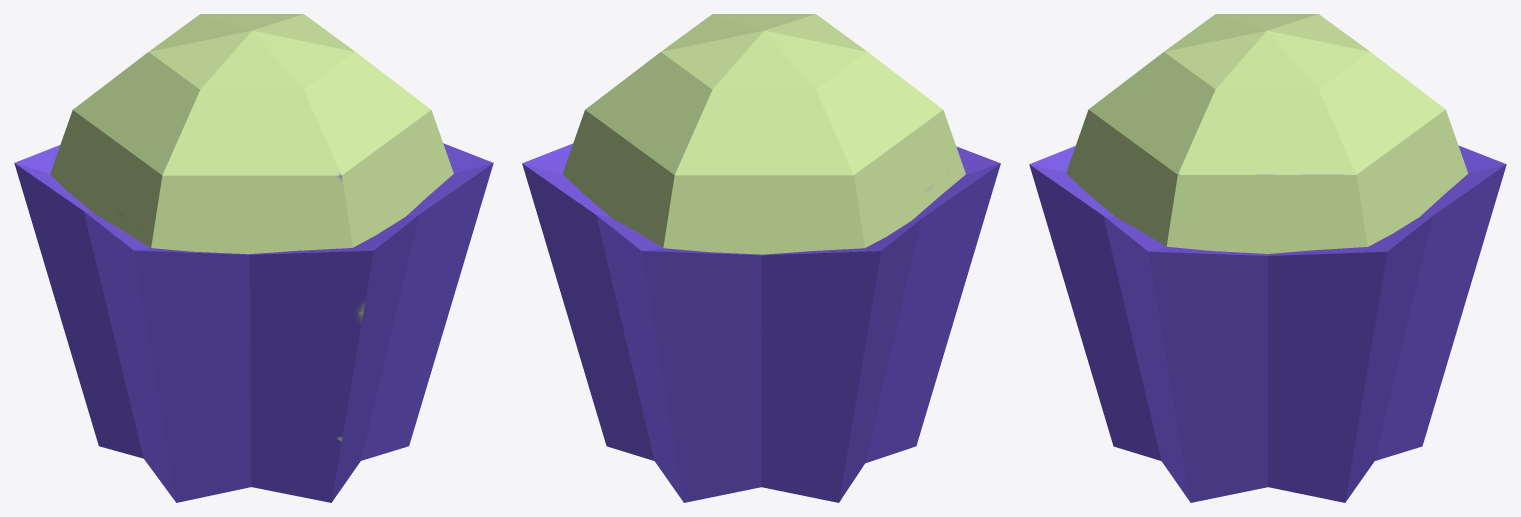
Rendered from Cupcake_2.fbx.
3 views of the same model, side by side, from view 1: azimuth 30°, elevation 25°; view 2: azimuth 150°, elevation 25°; view 3: azimuth 270°, elevation 25° (orthographic).
Visible parts, largest first — view 1: Cupcake two; view 2: Cupcake two; view 3: Cupcake two.
Boxes of the visible parts, box(x1,y1,x2,y2) form: Cupcake two: box(14, 14, 493, 502); Cupcake two: box(522, 14, 1000, 502); Cupcake two: box(1029, 14, 1506, 502).
Size of the model in its own units: 97.67 by 108 by 113.
